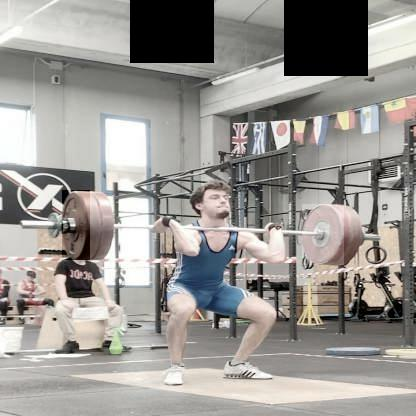barbell: (300, 205, 342, 265), (61, 192, 88, 262)
